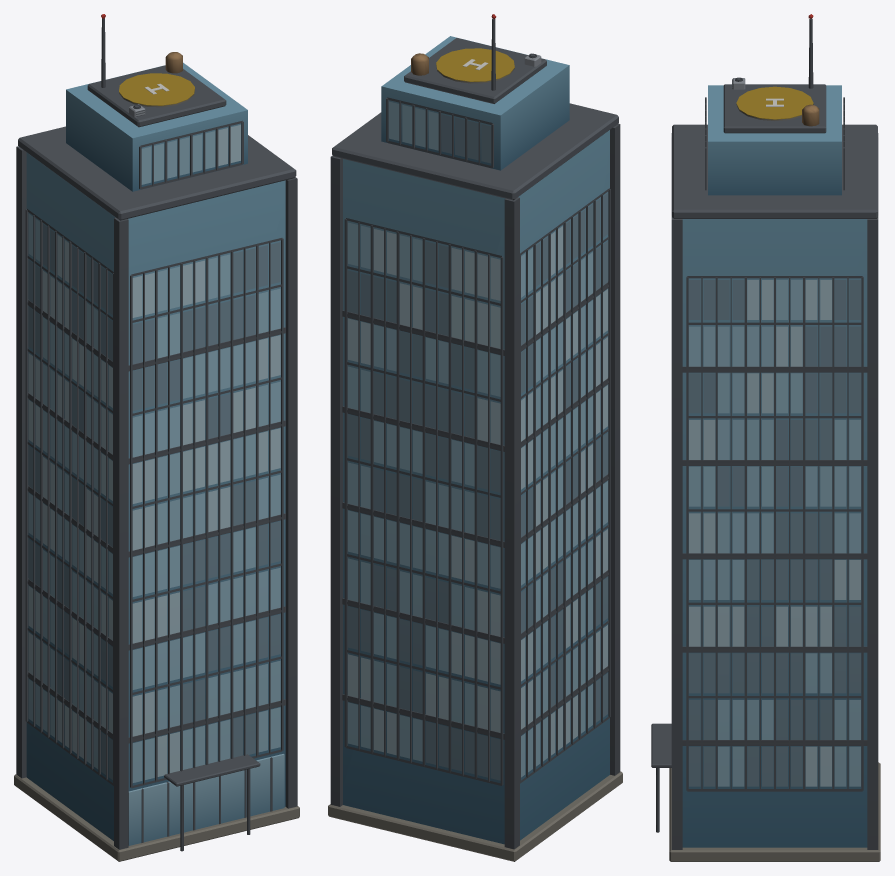
Rendered from glass_supertall_01.glb.
3 renders of one model, left to right at view 1: azimuth 30°, elevation 25°; view 2: azimuth 150°, elevation 25°; view 3: azimuth 270°, elevation 25°, orthographic. The views are drawn at different scales.
Parts seen in each view (by area): view 1: glass_supertall_01; view 2: glass_supertall_01; view 3: glass_supertall_01.
Boxes of the visible parts, x1,y1,x2,y2 form: glass_supertall_01: (14,14,299,861); glass_supertall_01: (328,14,622,861); glass_supertall_01: (651,14,880,861).
Size of the model in its own units: 8.2 by 33.69 by 8.9.
